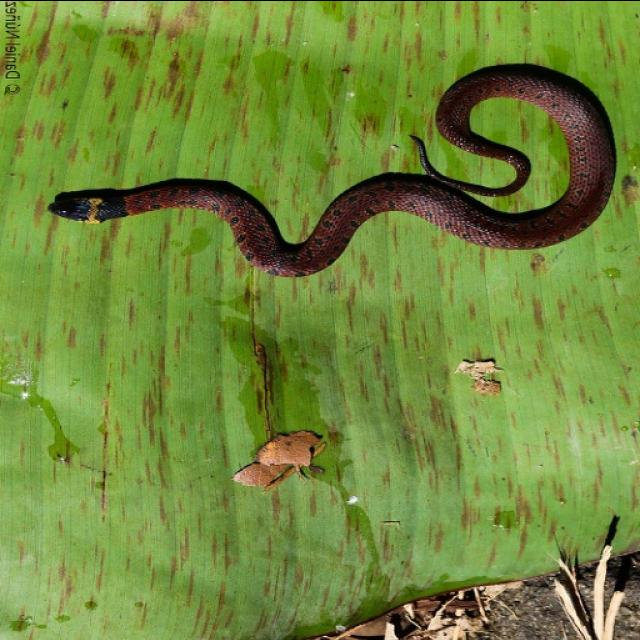snake: (30, 49, 640, 302)
